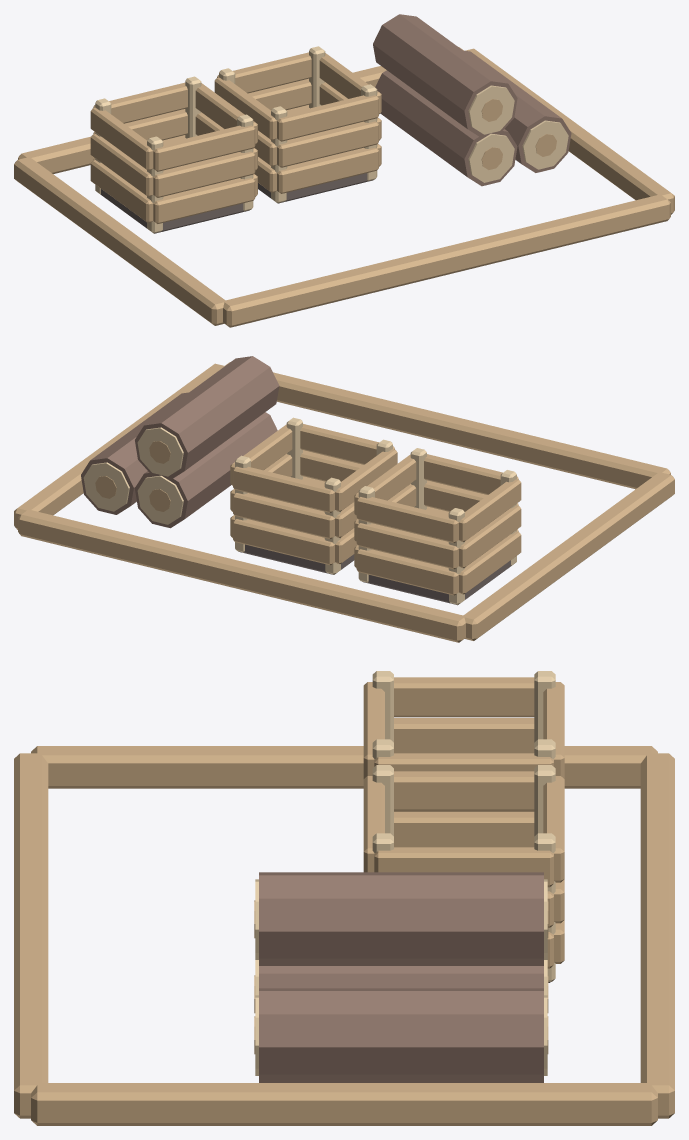
Rendered from stockpile.fbx.
3 views of the same model, one above another, from view 1: azimuth 30°, elevation 25°; view 2: azimuth 150°, elevation 25°; view 3: azimuth 270°, elevation 25° (orthographic). The views are drawn at different scales.
Parts seen in each view (by area): view 1: stockpile_mesh; view 2: stockpile_mesh; view 3: stockpile_mesh.
Boxes of the visible parts, box(x1,y1,x2,y2) form: stockpile_mesh: box(14, 14, 674, 327); stockpile_mesh: box(14, 356, 674, 642); stockpile_mesh: box(14, 671, 674, 1125).
Size of the model in its own units: 2.92 by 0.65 by 2.32.
